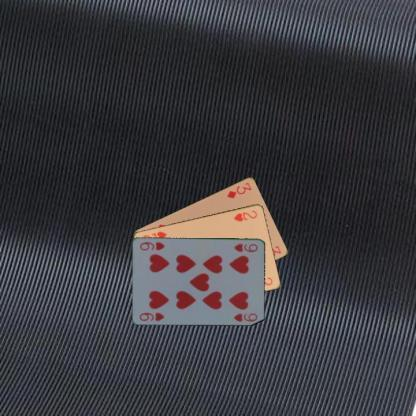2h: (231, 208, 258, 223)
3d: (224, 180, 253, 200)
9h: (137, 310, 166, 322), (232, 241, 258, 253)
